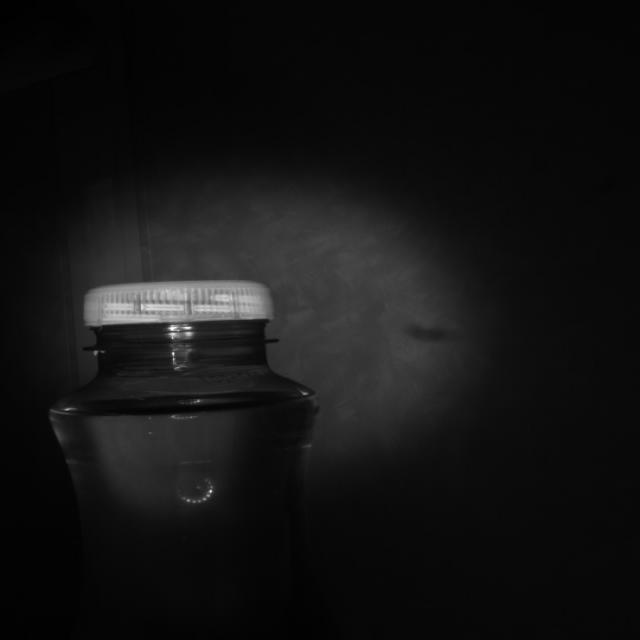Not Good: (80, 274, 283, 354)
